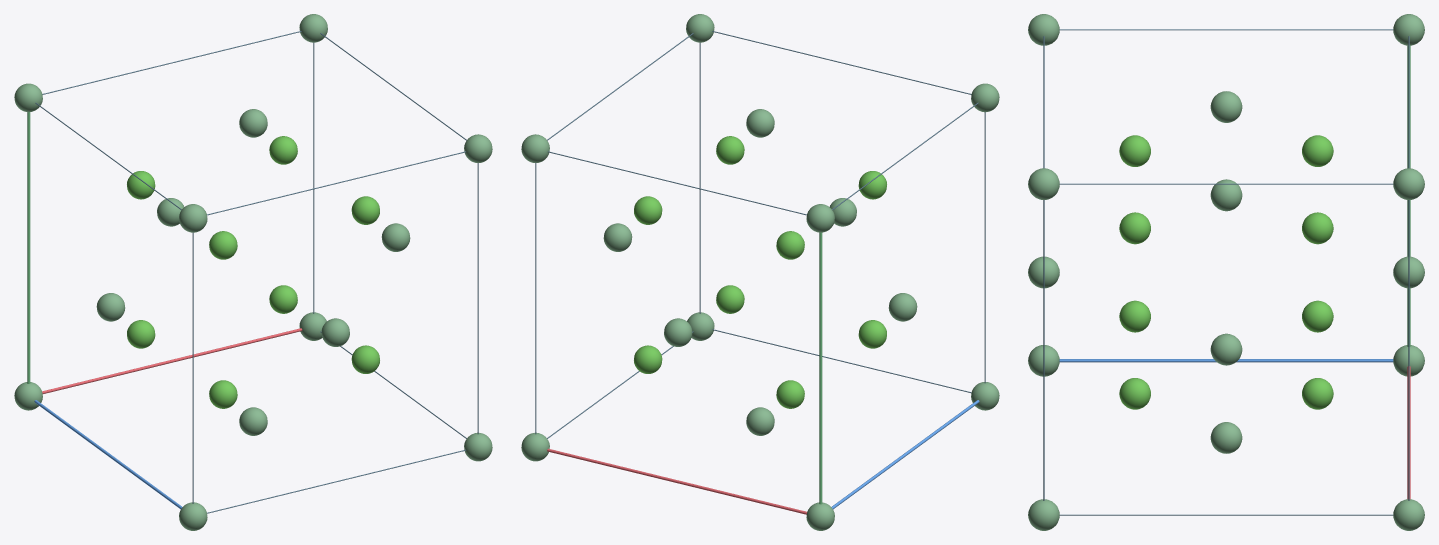
Rendered from chat-barium-chloride.glb.
3 renders of one model, left to right at view 1: azimuth 30°, elevation 25°; view 2: azimuth 150°, elevation 25°; view 3: azimuth 270°, elevation 25°, orthographic. The views are drawn at different scales.
Visible parts, largest first — view 1: Ba · Ba · 1 (×14), Ô mạng và các trục a, b, c, Cl · Cl · 1 (×8); view 2: Ba · Ba · 1 (×14), Ô mạng và các trục a, b, c, Cl · Cl · 1 (×8); view 3: Ba · Ba · 1 (×14), Cl · Cl · 1 (×8), Ô mạng và các trục a, b, c.
Part boxes in pixels (x1,y1,x2,y2): Ba · Ba · 1 (×14): [14, 14, 492, 530]; Ô mạng và các trục a, b, c: [27, 31, 478, 513]; Cl · Cl · 1 (×8): [127, 136, 379, 408]; Ba · Ba · 1 (×14): [521, 14, 999, 530]; Ô mạng và các trục a, b, c: [535, 31, 985, 514]; Cl · Cl · 1 (×8): [634, 136, 886, 408]; Ba · Ba · 1 (×14): [1028, 14, 1424, 530]; Cl · Cl · 1 (×8): [1119, 135, 1333, 409]; Ô mạng và các trục a, b, c: [1043, 29, 1410, 515].
Size of the model in its own units: 7.98 by 7.98 by 7.98.
